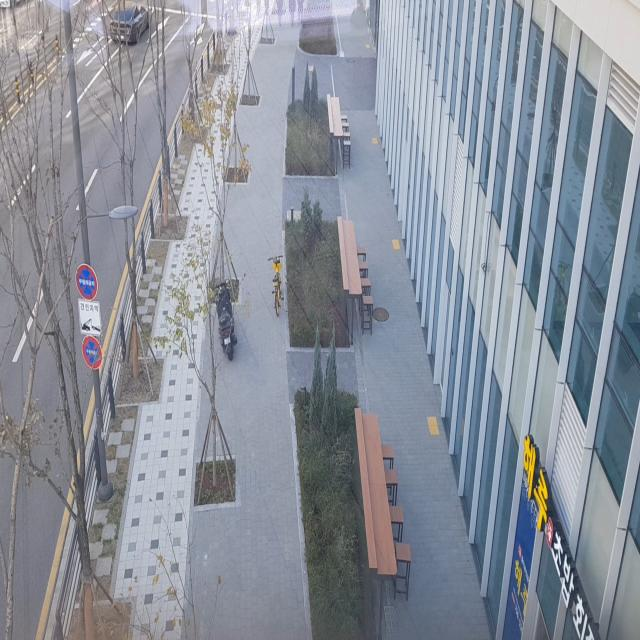Car: (106, 0, 155, 54)
